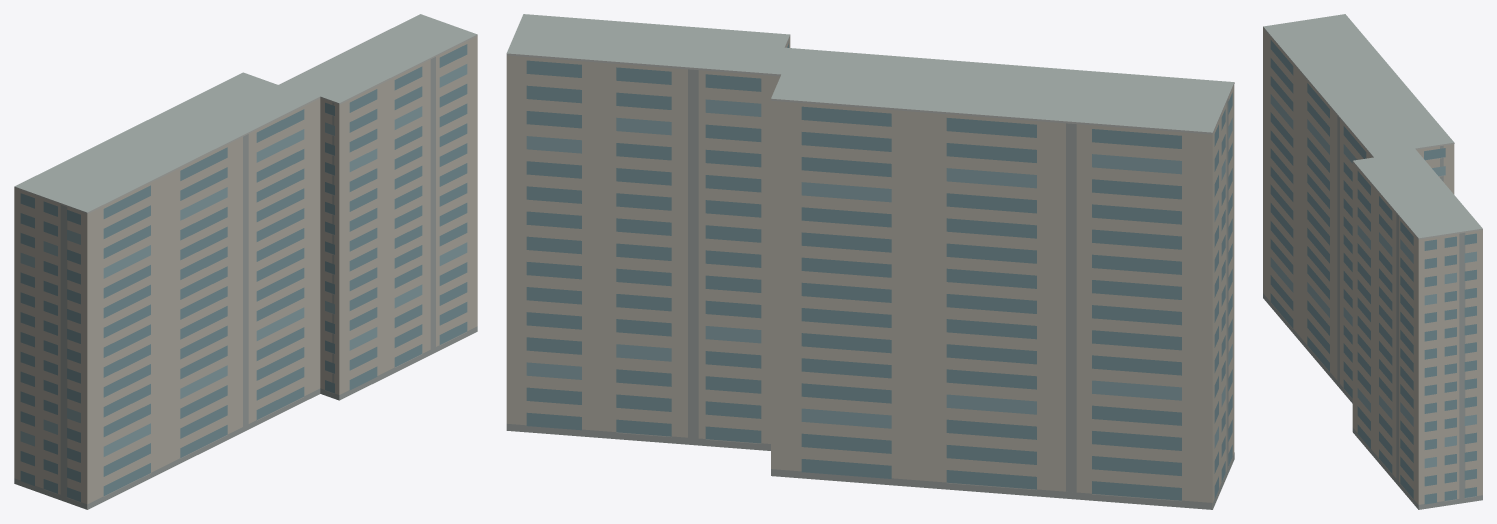
Rendered from residential-376526b7-d7bf-4661-aef7-2ab483c71c71.glb.
3 renders of one model, left to right at view 1: azimuth 30°, elevation 25°; view 2: azimuth 150°, elevation 25°; view 3: azimuth 270°, elevation 25°, orthographic. The views are drawn at different scales.
Visible parts, largest first — view 1: residential-376526b7-d7bf-4661-aef7-2ab483c71c71.tmp; view 2: residential-376526b7-d7bf-4661-aef7-2ab483c71c71.tmp; view 3: residential-376526b7-d7bf-4661-aef7-2ab483c71c71.tmp.
Part boxes in pixels (x1=…): residential-376526b7-d7bf-4661-aef7-2ab483c71c71.tmp: x1=14, y1=14, x2=477, y2=509; residential-376526b7-d7bf-4661-aef7-2ab483c71c71.tmp: x1=506, y1=14, x2=1234, y2=509; residential-376526b7-d7bf-4661-aef7-2ab483c71c71.tmp: x1=1263, y1=14, x2=1482, y2=509.
Bounding box in the file's own units: 81.03 × 45.75 × 33.55.
